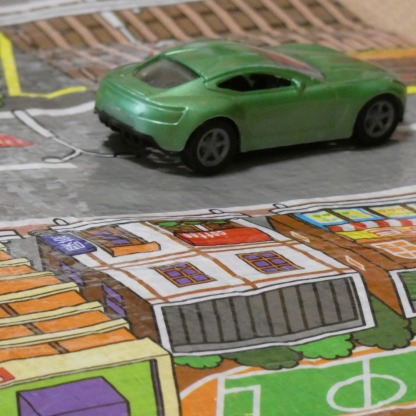car: (95, 39, 404, 178)
